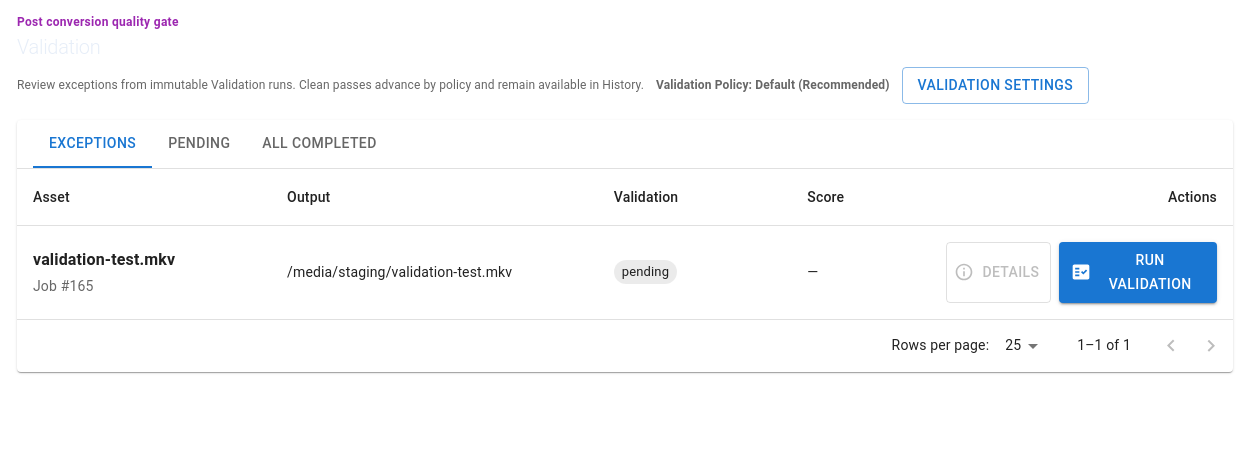
Test: ValidationPage request errors › shows the backend error message when the validation request fails
Step 1. Click the button "Run validation" → x=1138, y=272, box [1059,242,1217,302]
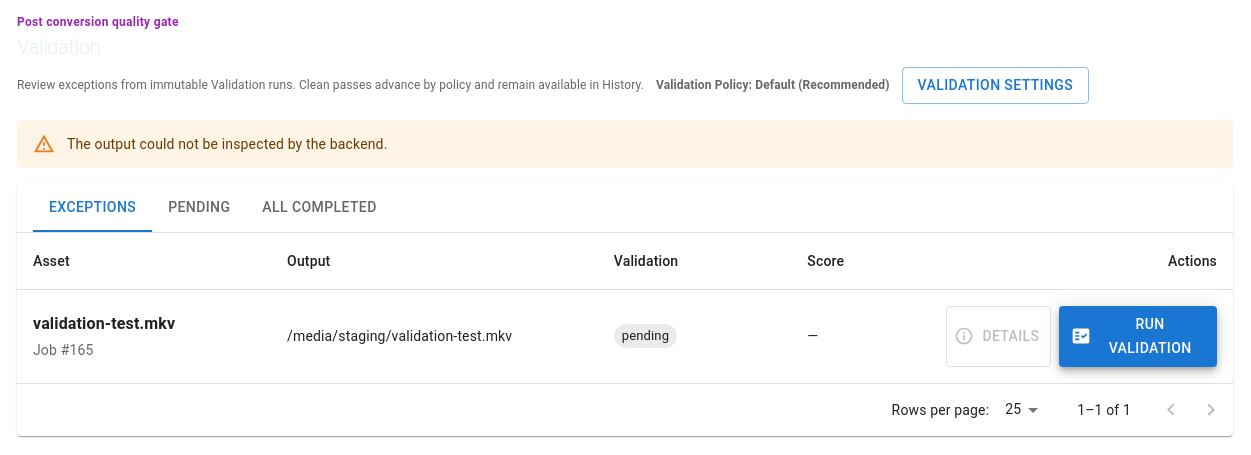
Expected: the text "The output could not be inspected by the backend." is shown, [67,136,388,152]
